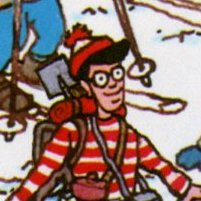waldo: (78, 36, 125, 117)
